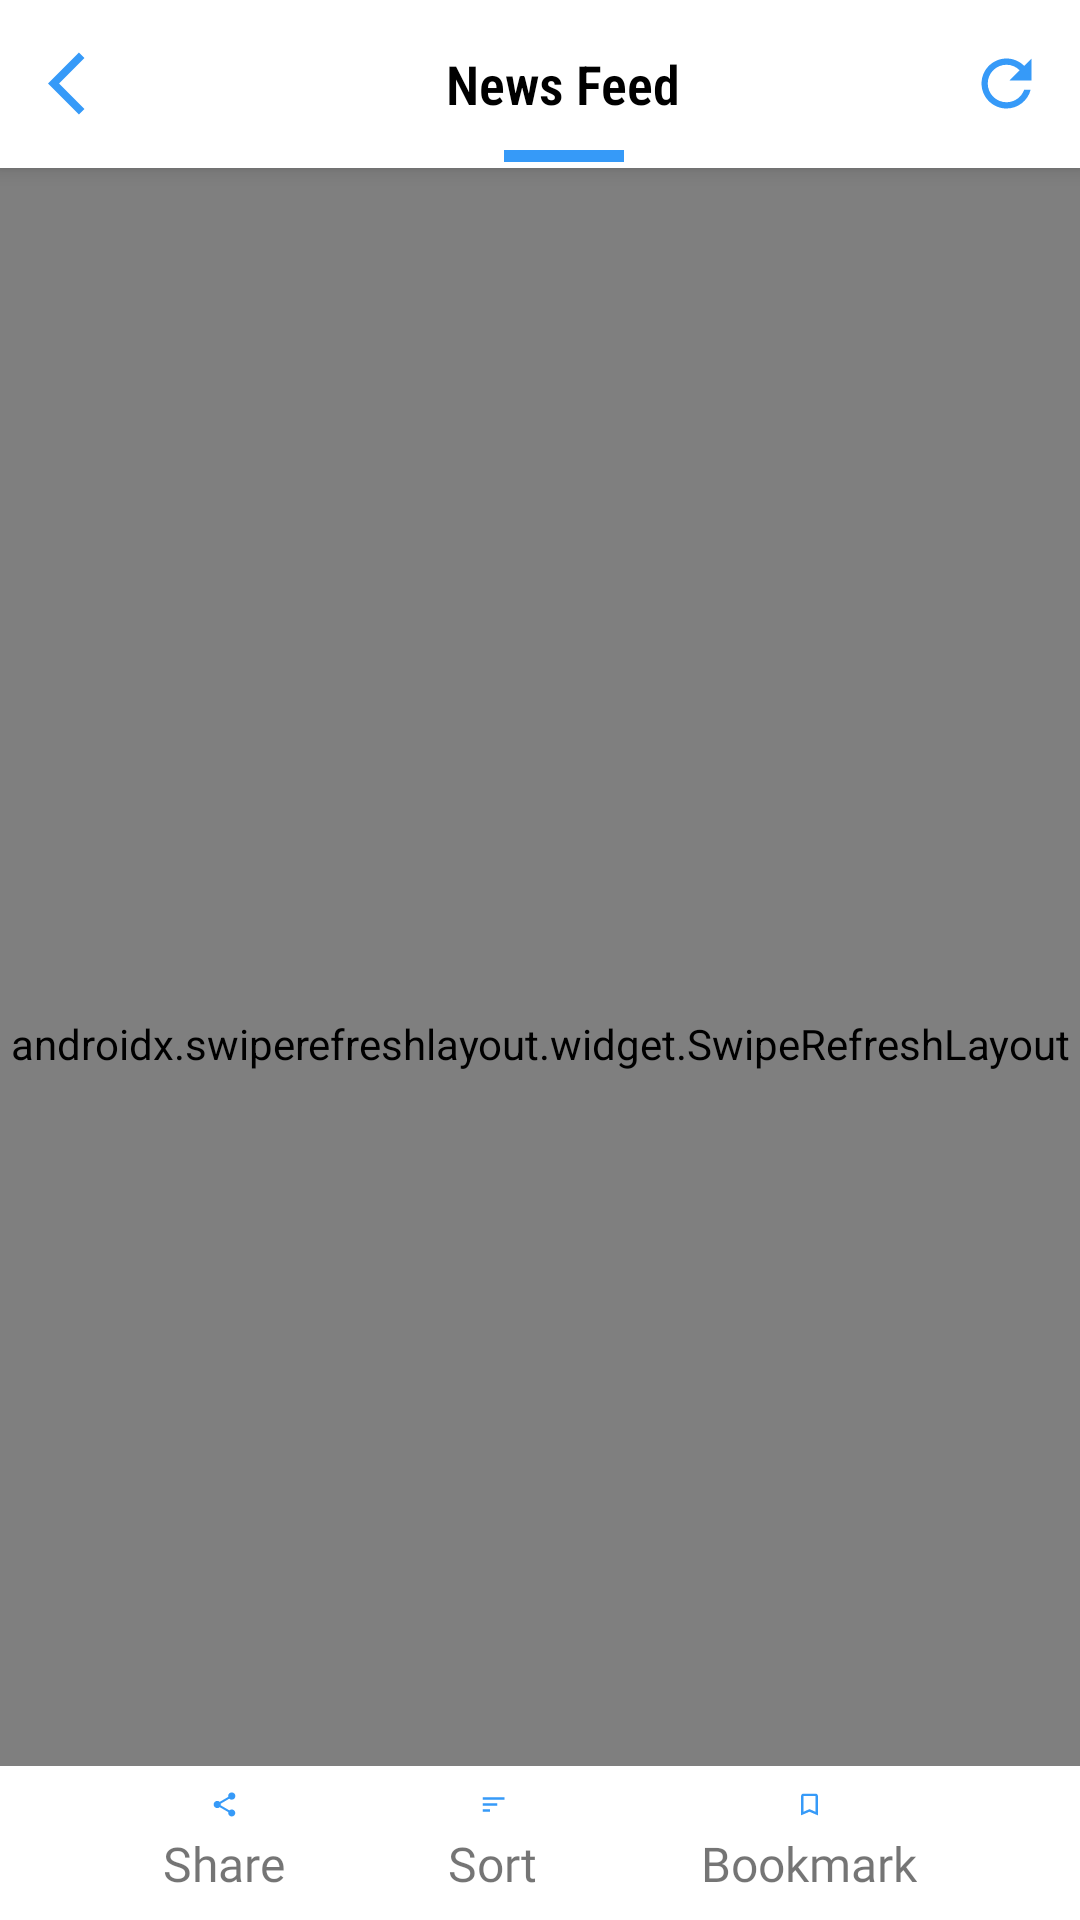

Where to tap for icons on this 1080*1920 app screen, as [x,y]:
arrow back: [66,83]
